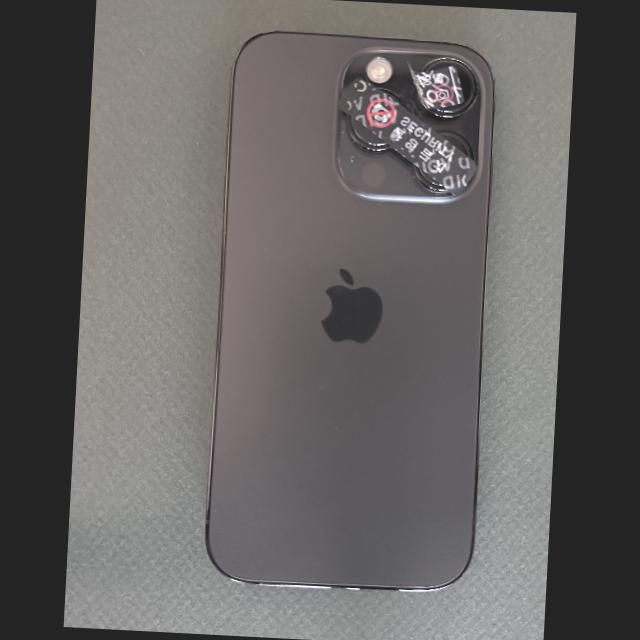lens: (421, 58, 476, 118), (346, 115, 390, 150), (435, 131, 472, 159)
phone: (206, 33, 492, 590)
sticker: (336, 77, 477, 195), (408, 63, 465, 110)
